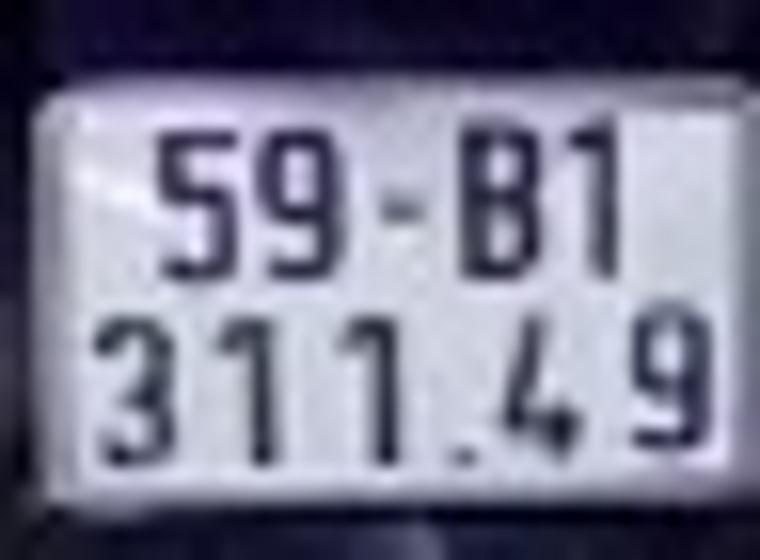-: (383, 194, 425, 226)
.: (451, 448, 479, 467)
1: (341, 310, 403, 468), (216, 316, 280, 468), (571, 112, 622, 276)
3: (98, 319, 175, 468)
4: (503, 313, 578, 467)
5: (153, 127, 237, 284)
9: (628, 298, 712, 456), (257, 131, 343, 283)
B: (453, 115, 542, 283)
